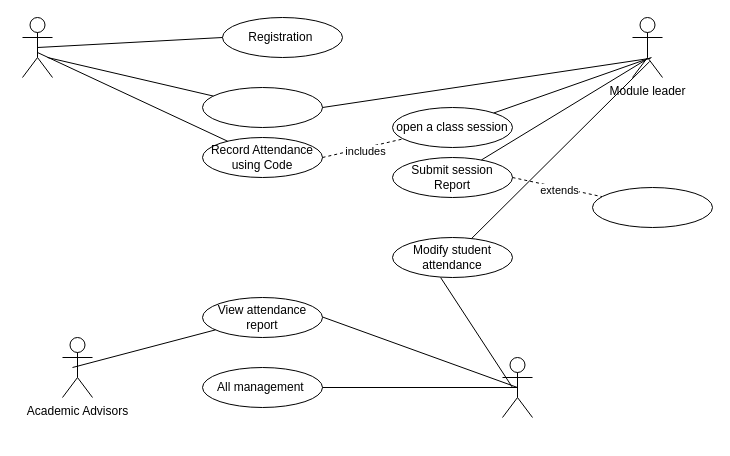
This 730x456 diagram has some shape labels left out. Here are the shapes that lost their labels. From the top down, the box of each, then its label:
(22, 16, 52, 78): Student
(202, 86, 322, 128): Login
(592, 186, 712, 228): Record Invalid attendance
(502, 356, 532, 418): Course leaders
